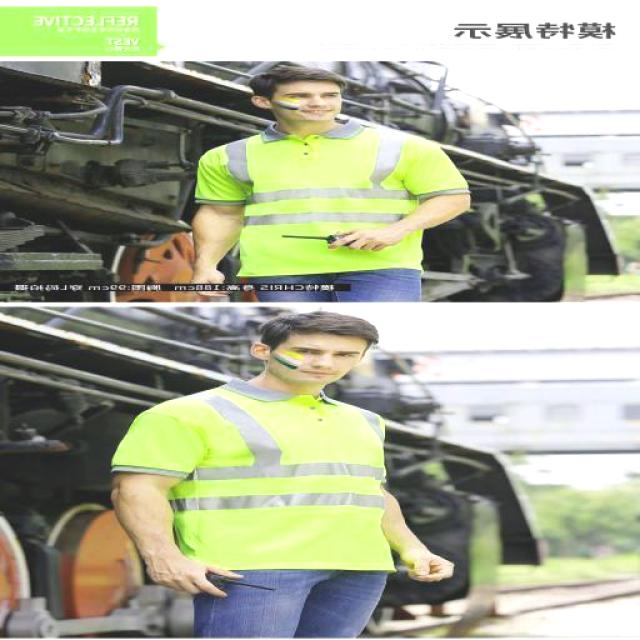face_nomask: (284, 342, 364, 387), (281, 83, 343, 123)
hand_noglove: (144, 550, 242, 598), (326, 224, 396, 257), (406, 548, 459, 583), (190, 262, 230, 298)
head_nohelmet: (248, 309, 382, 351), (249, 58, 351, 93)
person: (104, 310, 457, 640), (177, 59, 475, 302)
vest: (103, 388, 416, 572), (178, 124, 472, 280)
